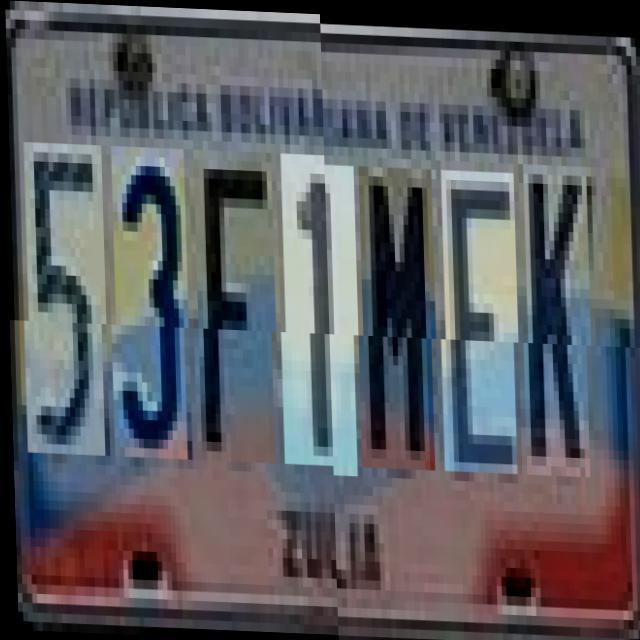1: (280, 160, 360, 474)
3: (110, 154, 190, 468)
5: (22, 152, 108, 464)
E: (440, 166, 520, 470)
F: (192, 157, 278, 470)
K: (522, 159, 592, 472)
M: (358, 162, 438, 466)
